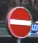No entry: (6, 6, 33, 38)
